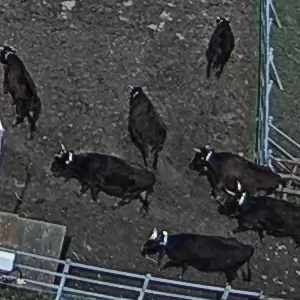cow: (134, 226, 265, 290), (42, 145, 155, 215), (177, 134, 285, 199), (107, 76, 180, 171), (1, 40, 50, 145), (212, 189, 300, 238), (201, 12, 238, 81)
